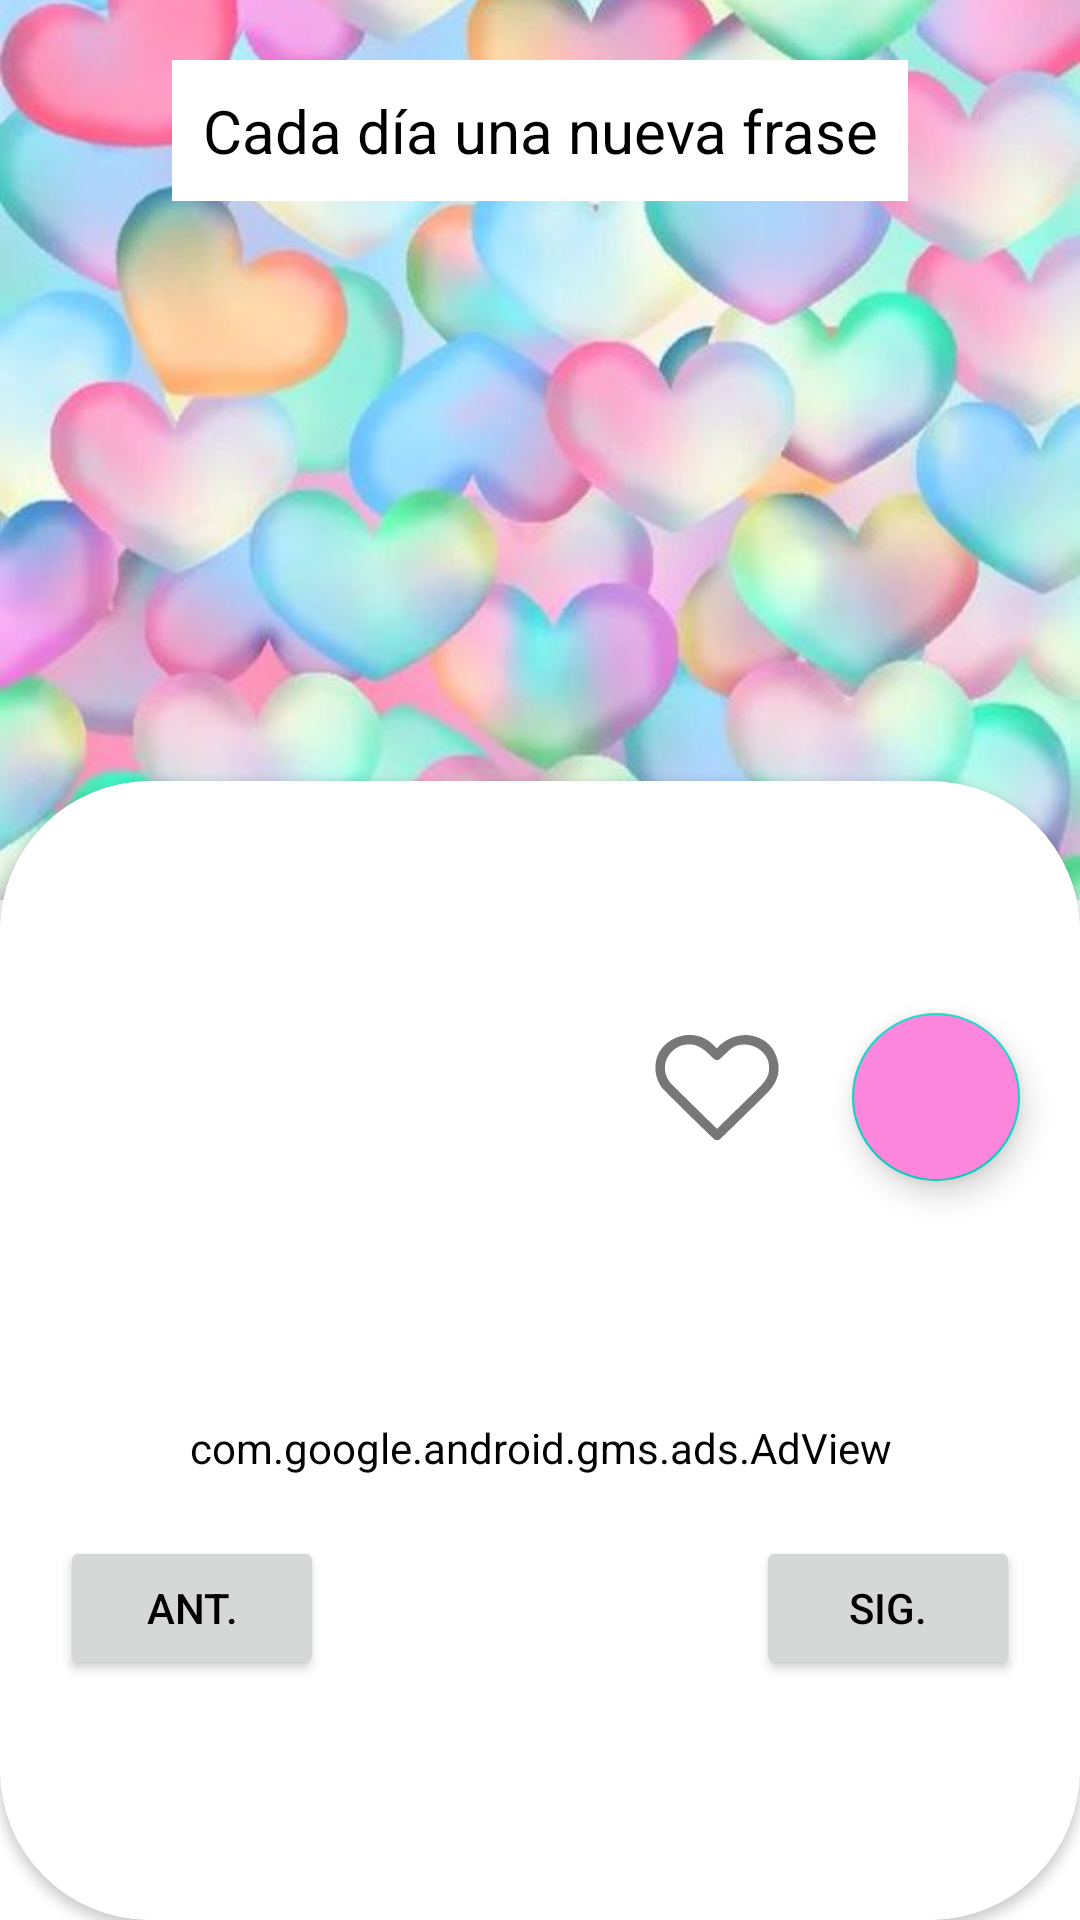

Icon click points for this 1080 x 1920 phone screenshot, format point (x, y):
corazon: point (717, 1087)
